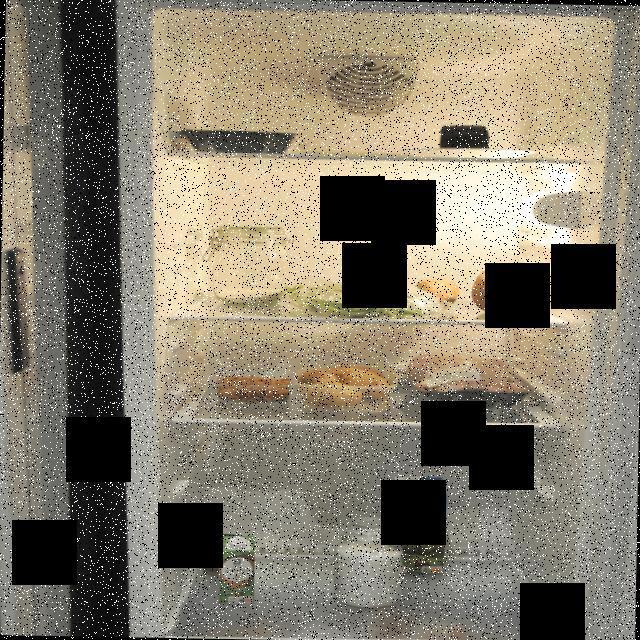Beans: (279, 278, 467, 322)
Cheese: (436, 122, 492, 153)
Chicken: (396, 348, 534, 412)
Corn ear: (202, 532, 248, 576)
Cream: (217, 534, 256, 604)
Flour: (201, 218, 294, 314)
Milk carton/jug: (392, 472, 450, 578)
Potato: (291, 362, 396, 414)
Shrimp: (215, 377, 294, 402)
Sugar: (330, 515, 408, 610)
Sweet Potato: (464, 270, 547, 316), (410, 278, 459, 307)
